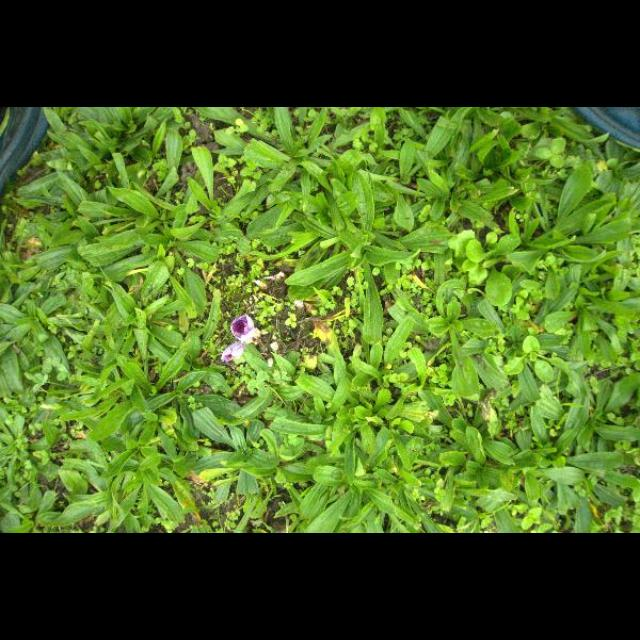flower: (232, 315, 254, 341), (222, 343, 242, 363)
